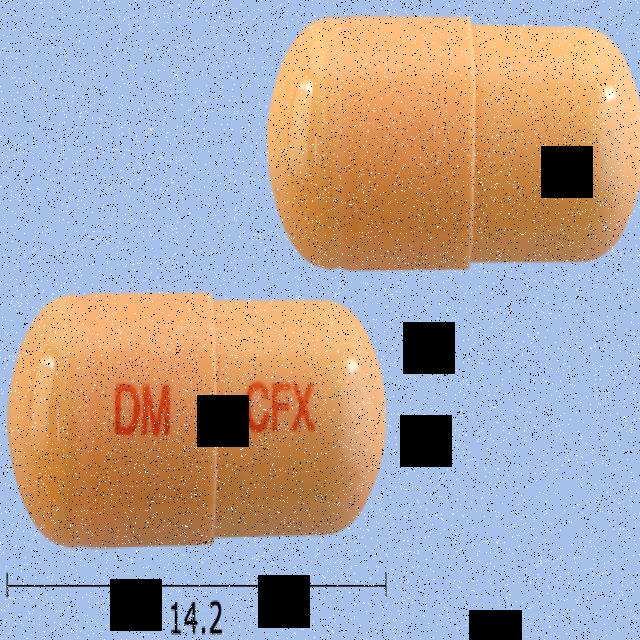Fixima: (7, 291, 387, 545)
